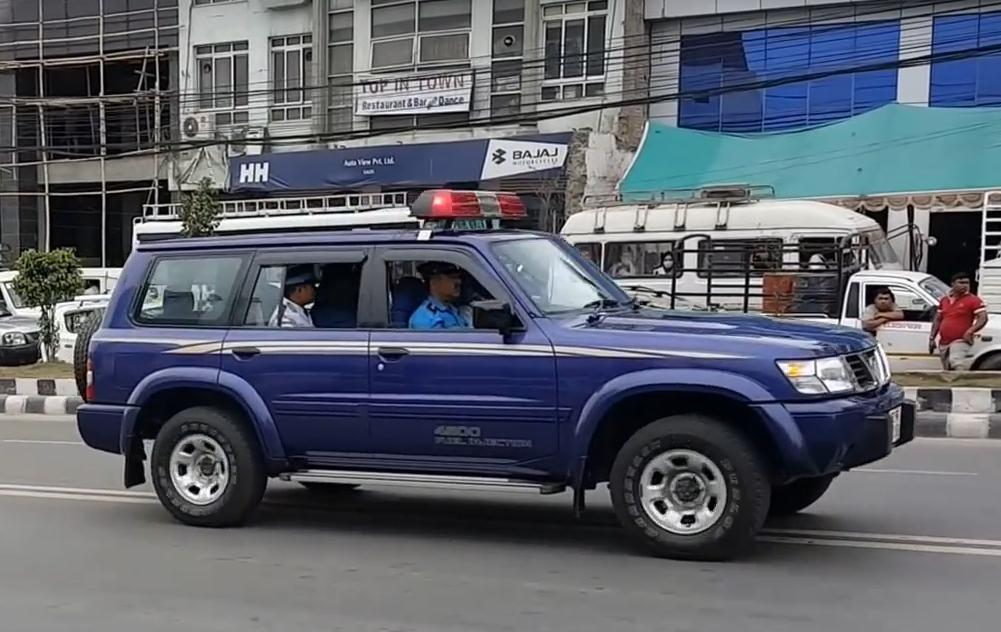micro_bus: (555, 185, 911, 329)
police_vehicle: (72, 168, 924, 564)
transport_vehicle: (667, 229, 1001, 384)
